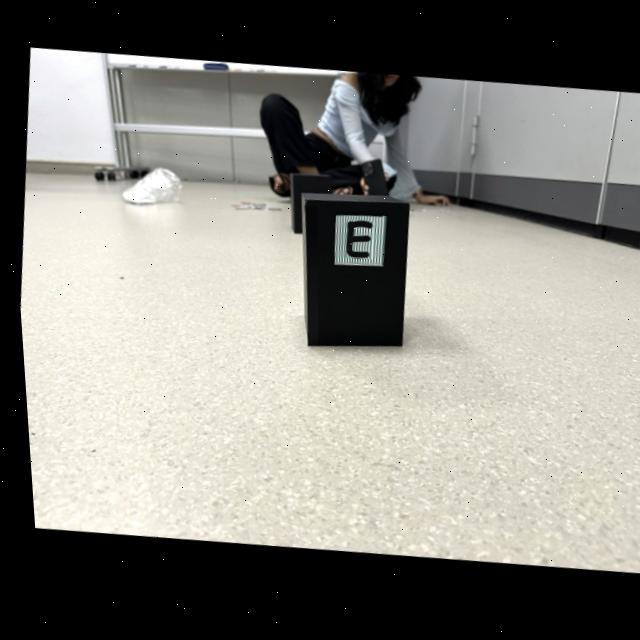E: (343, 224, 369, 261)
